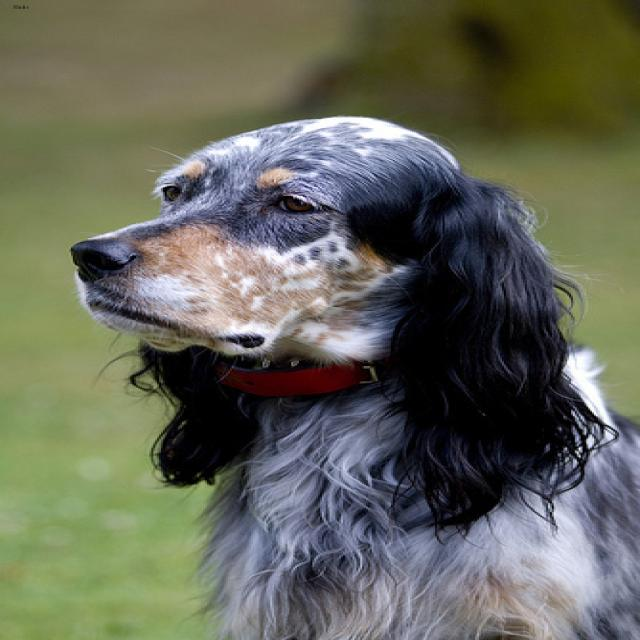dog-english_setter: (57, 109, 636, 637)
